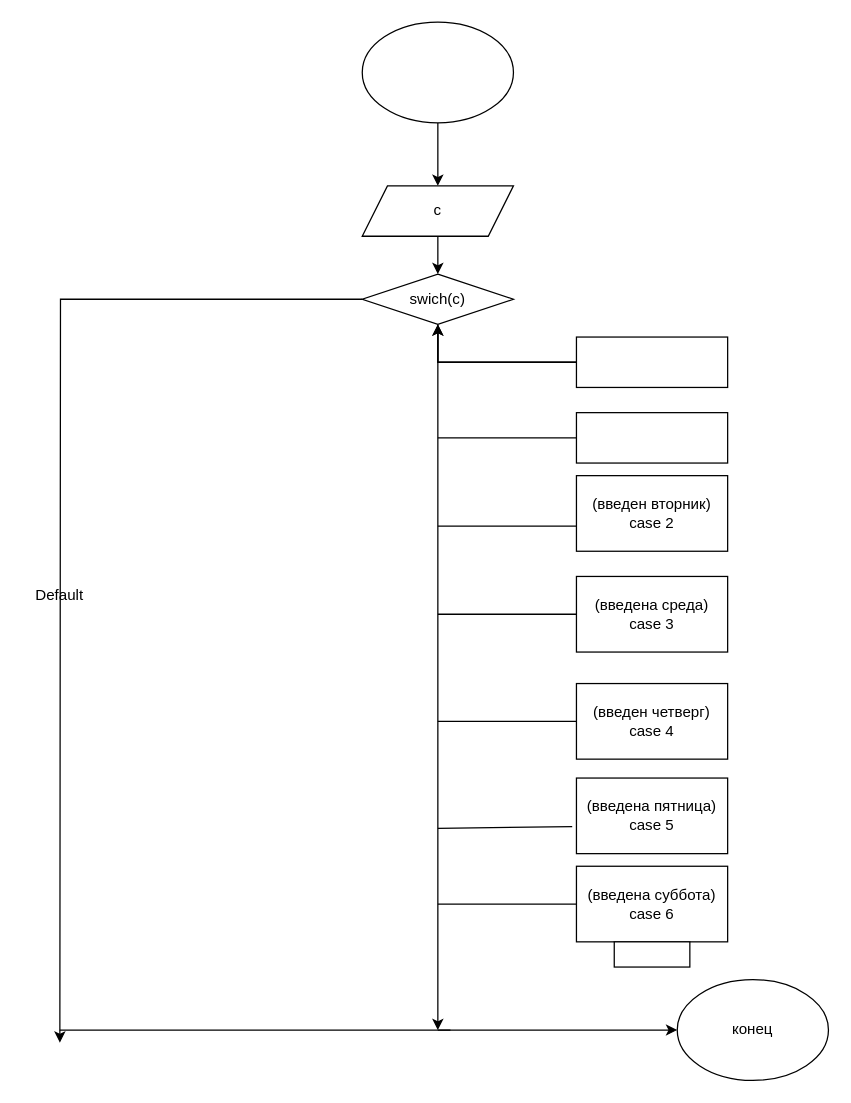
This 851x1103 diagram has some shape labels left out. The box of each missing label's shape, as (x1, y1, x2, y2) in pixels:
(введен понедельник) case 1: (575, 411, 728, 463)
(введено воскресенье) case 0: (575, 336, 728, 387)
break: (613, 941, 690, 967)
начало: (361, 21, 513, 123)
